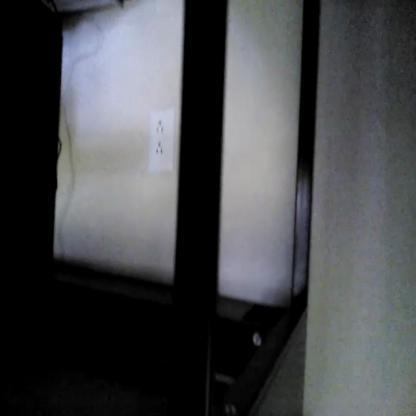OUTLET: (148, 106, 176, 170)
